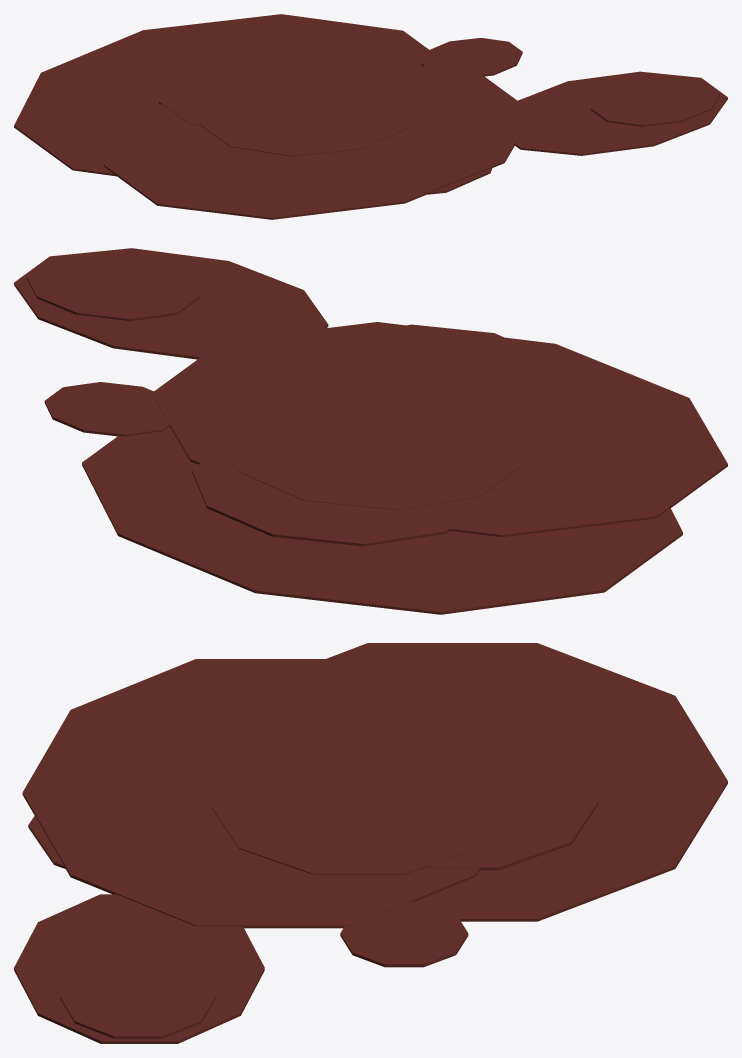
Rendered from blood-stain.glb.
The picture shows the model from 3 angles, top to bottom: view 1: azimuth 30°, elevation 25°; view 2: azimuth 150°, elevation 25°; view 3: azimuth 270°, elevation 25°; orthographic projection. The views are drawn at different scales.
Visible parts, largest first — view 1: blood-stain.001; view 2: blood-stain.001; view 3: blood-stain.001.
Part boxes in pixels (left/top/right/bottom): blood-stain.001: left=14, top=14, right=727, bottom=219; blood-stain.001: left=14, top=248, right=727, bottom=614; blood-stain.001: left=14, top=643, right=727, bottom=1043.
Size of the model in its own units: 1.89 by 0.014 by 1.43.
